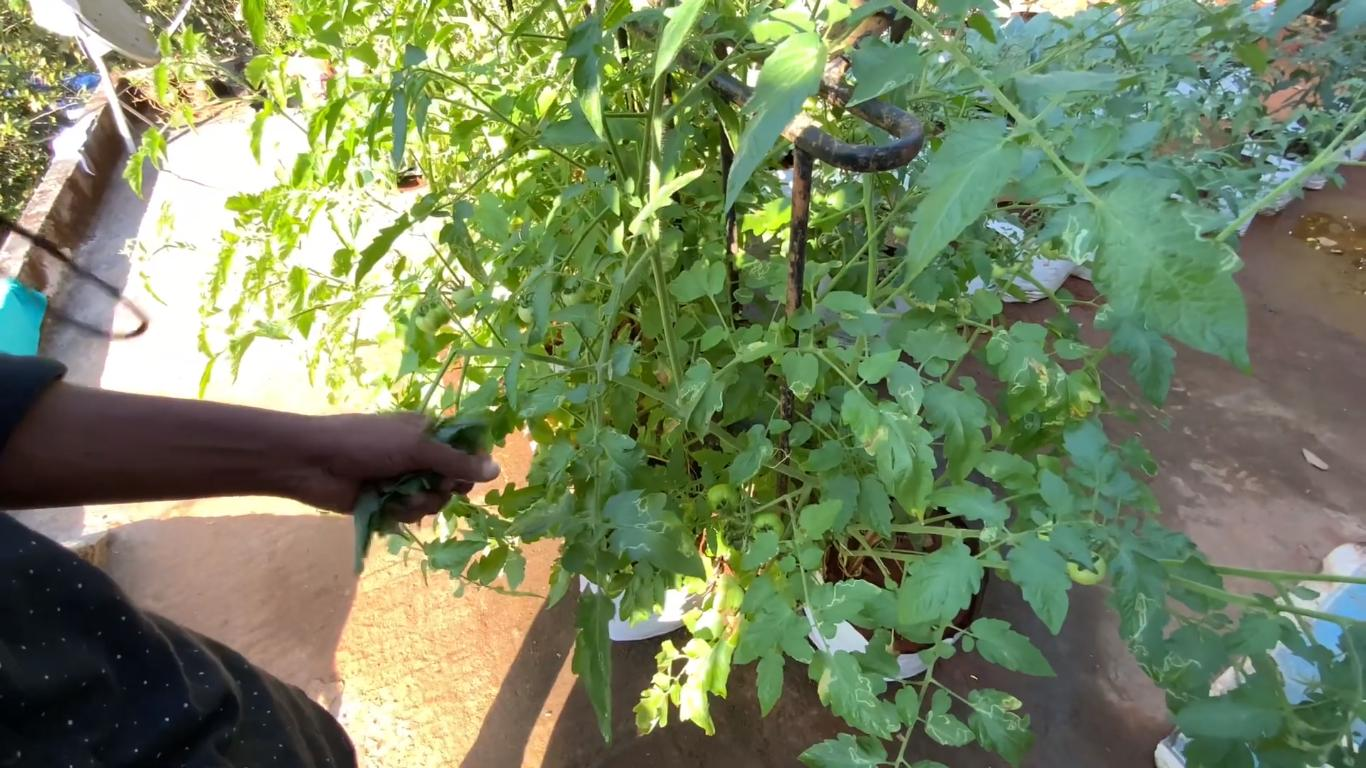Leaf_Miner: (1057, 175, 1253, 377), (602, 487, 707, 583), (1093, 302, 1178, 410), (986, 321, 1070, 430), (1107, 545, 1171, 684), (817, 650, 893, 743), (968, 688, 1036, 768), (843, 43, 925, 108), (676, 357, 726, 445), (808, 578, 883, 624), (728, 423, 774, 491), (795, 732, 879, 768), (886, 360, 925, 417), (513, 378, 568, 418), (779, 349, 819, 402), (925, 709, 976, 749), (745, 260, 779, 288), (1054, 338, 1091, 361), (732, 286, 755, 307)
